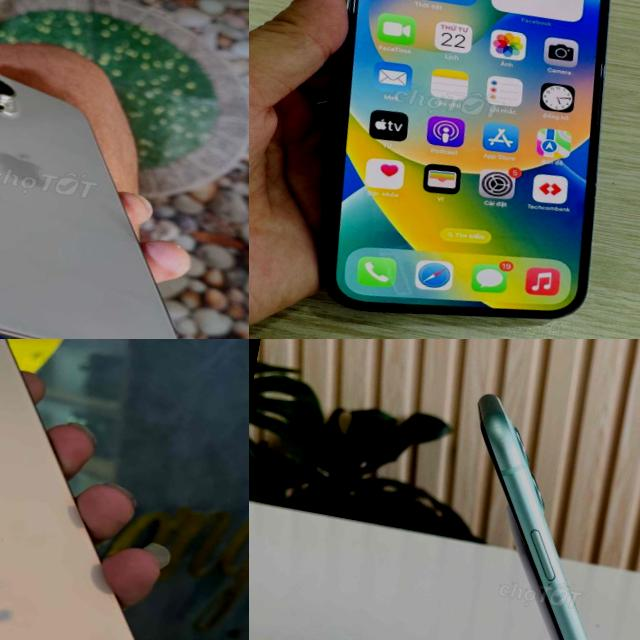gen_11: (477, 394, 589, 640)
gen_12_13: (276, 0, 640, 339)
gen_15: (0, 18, 236, 339)
gen_x_xs: (0, 339, 209, 640)
